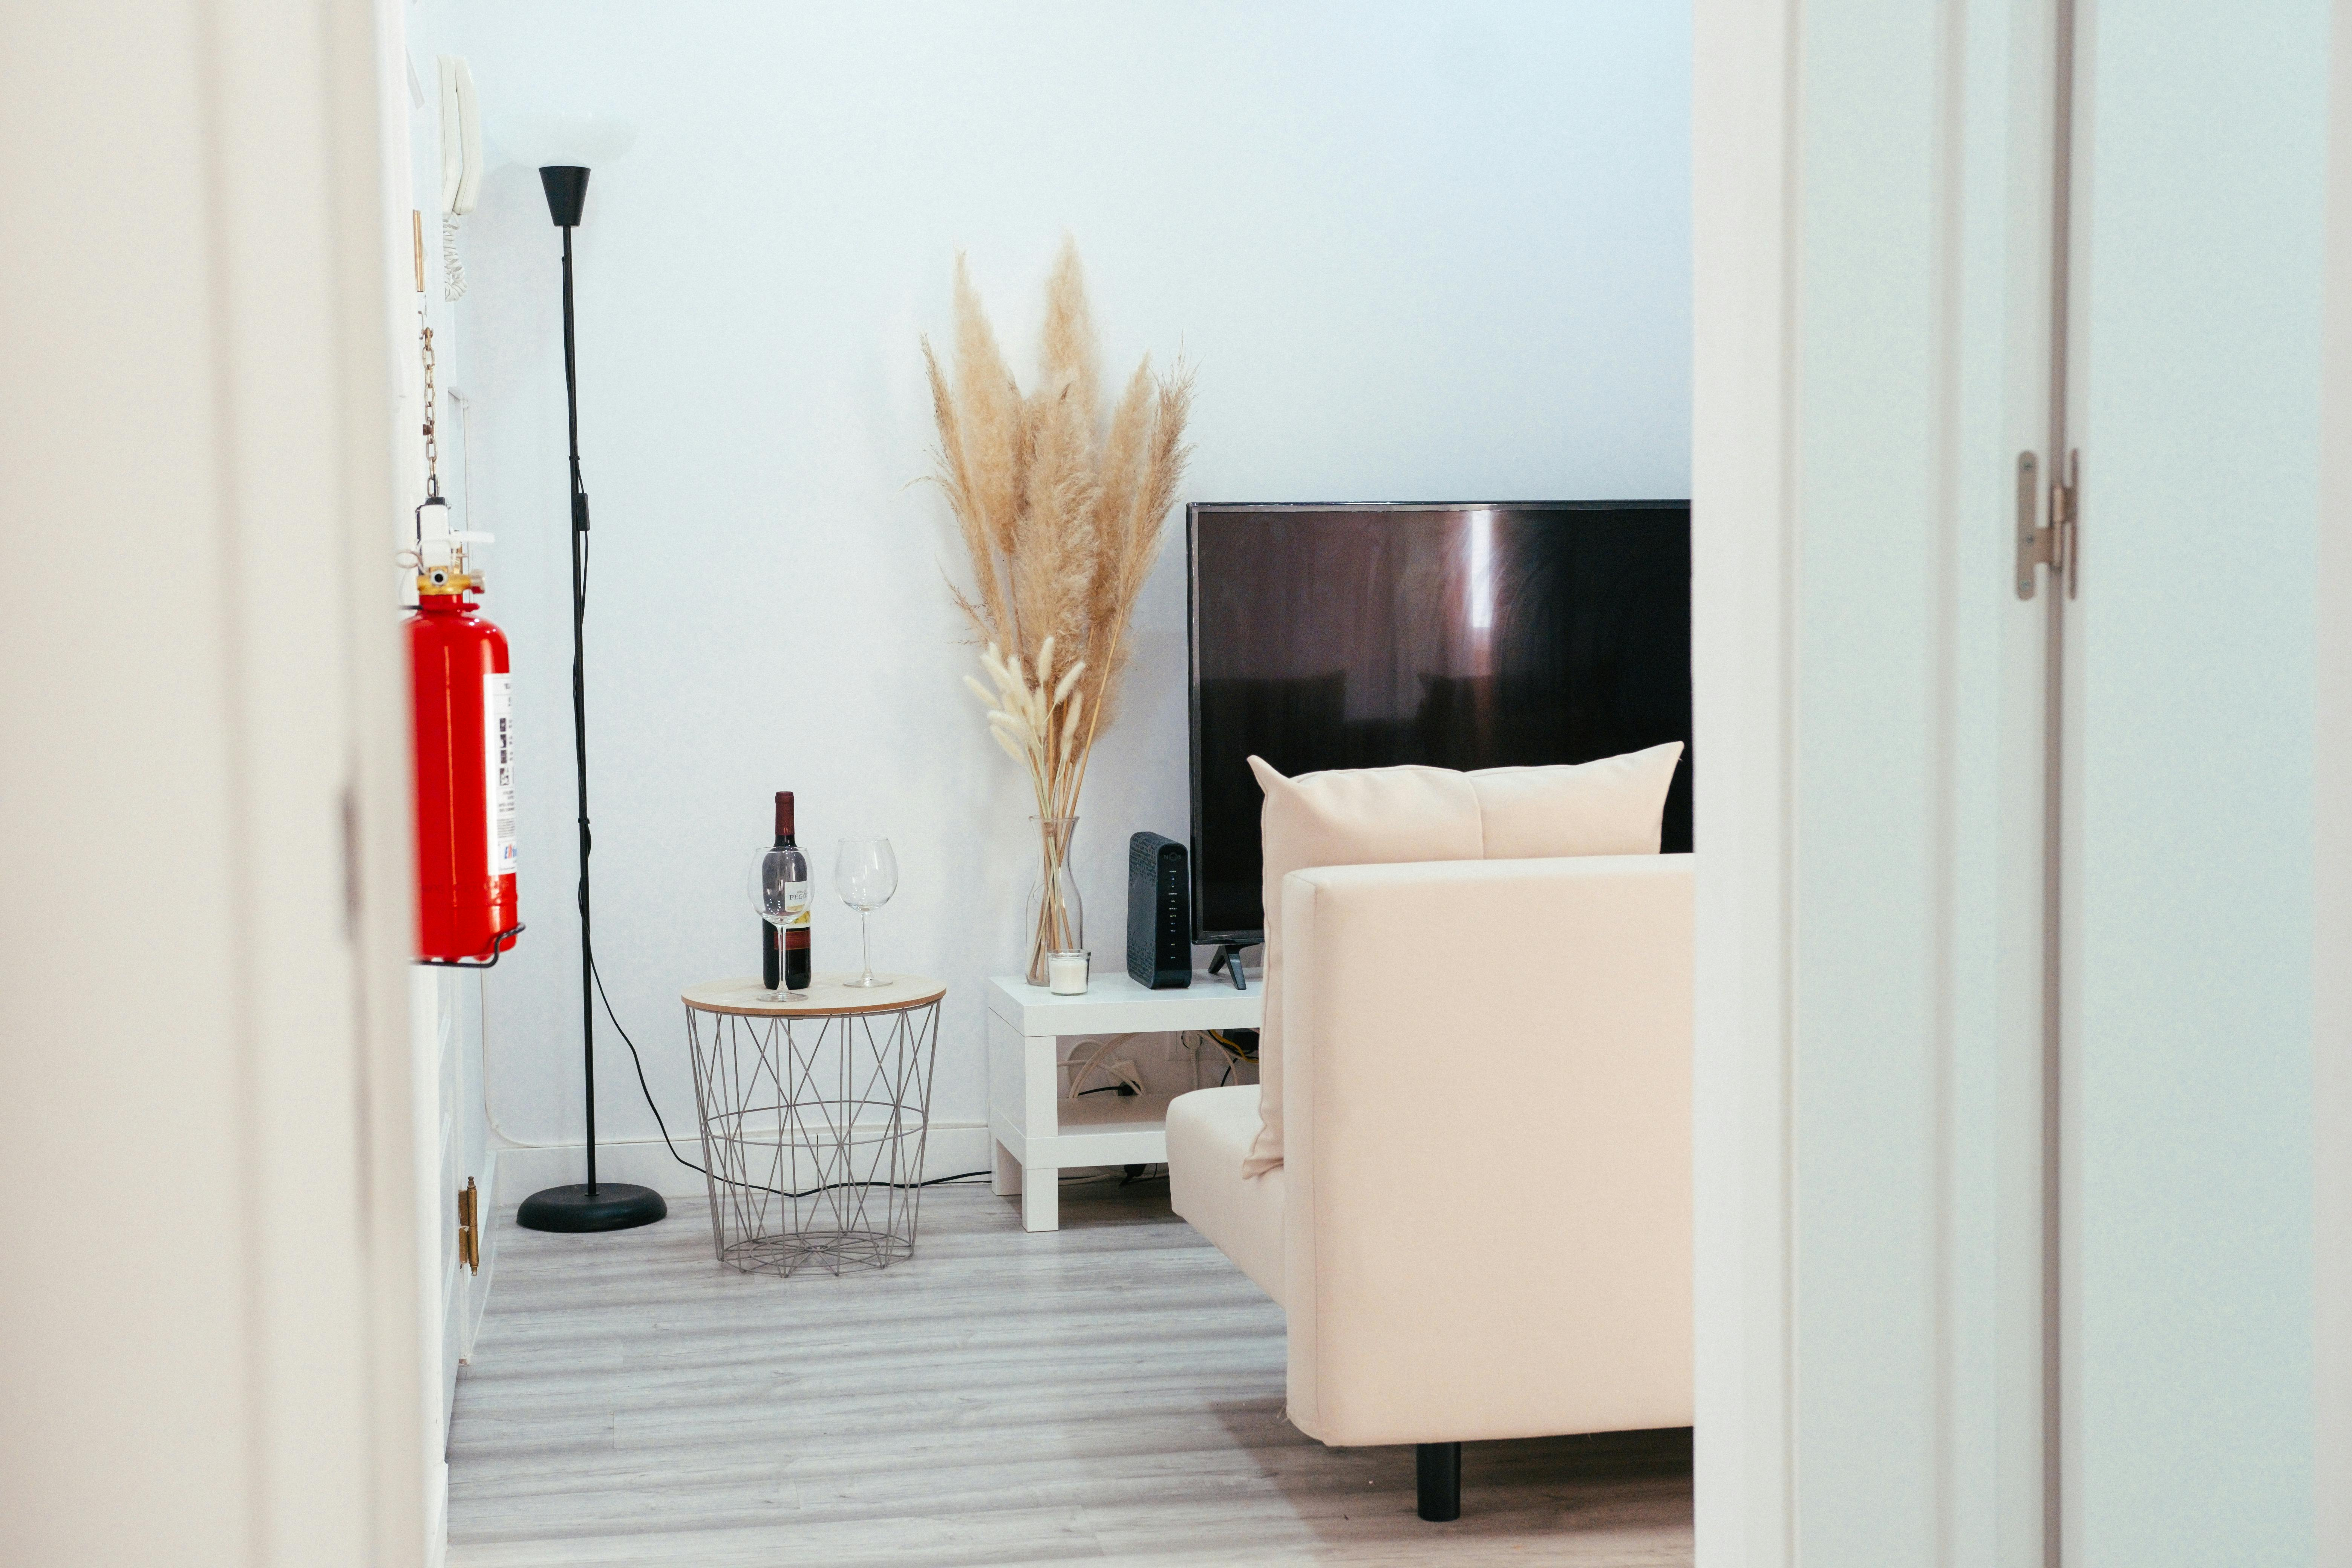extintor: (394, 525, 530, 969)
